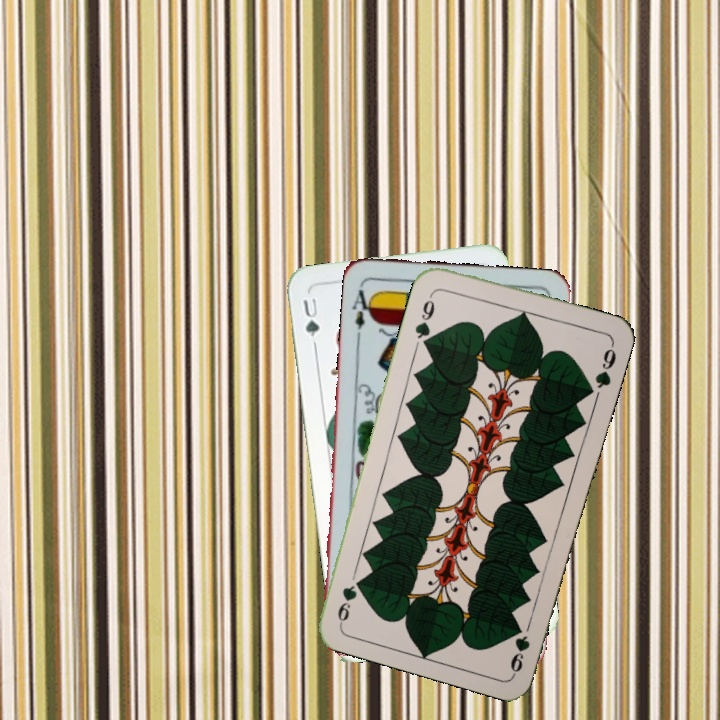EA: (348, 285, 376, 341)
G9: (411, 287, 437, 347), (506, 619, 533, 676)
GU: (299, 294, 323, 349)
